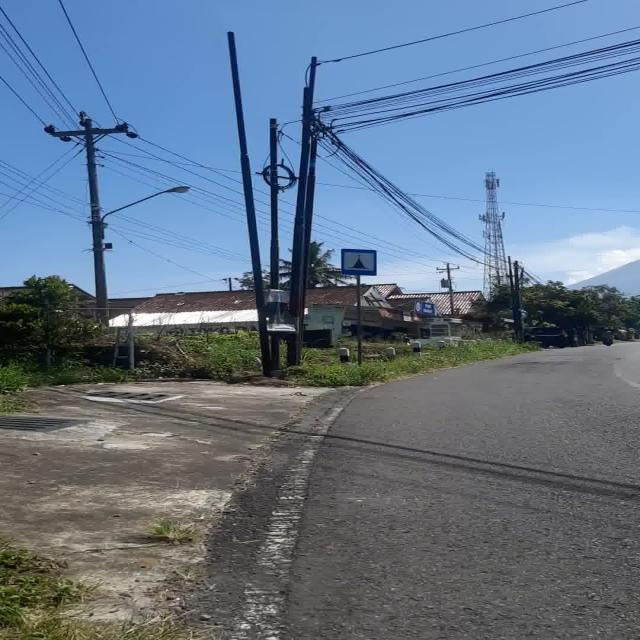Gereja: (341, 248, 377, 276)
